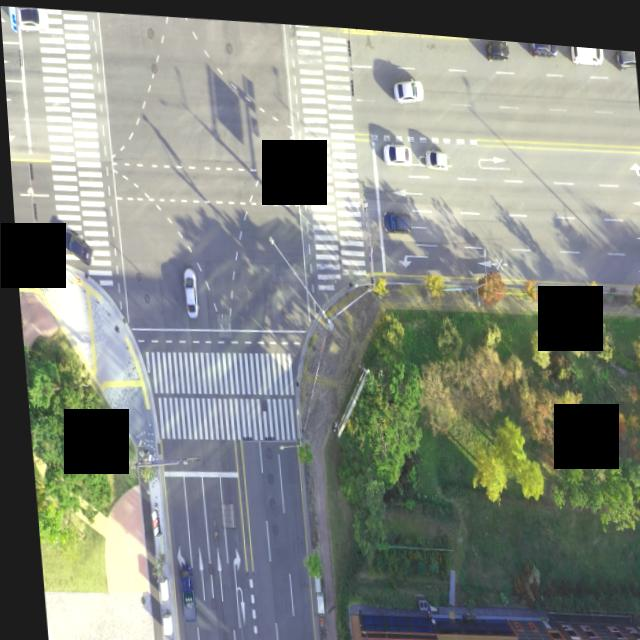car: (390, 70, 424, 100), (175, 265, 193, 320), (567, 36, 605, 57), (379, 203, 409, 229), (379, 136, 408, 158), (484, 32, 509, 56), (611, 39, 635, 62), (529, 34, 560, 51), (422, 144, 447, 163), (615, 39, 635, 60)
small_truck: (171, 565, 189, 621)
